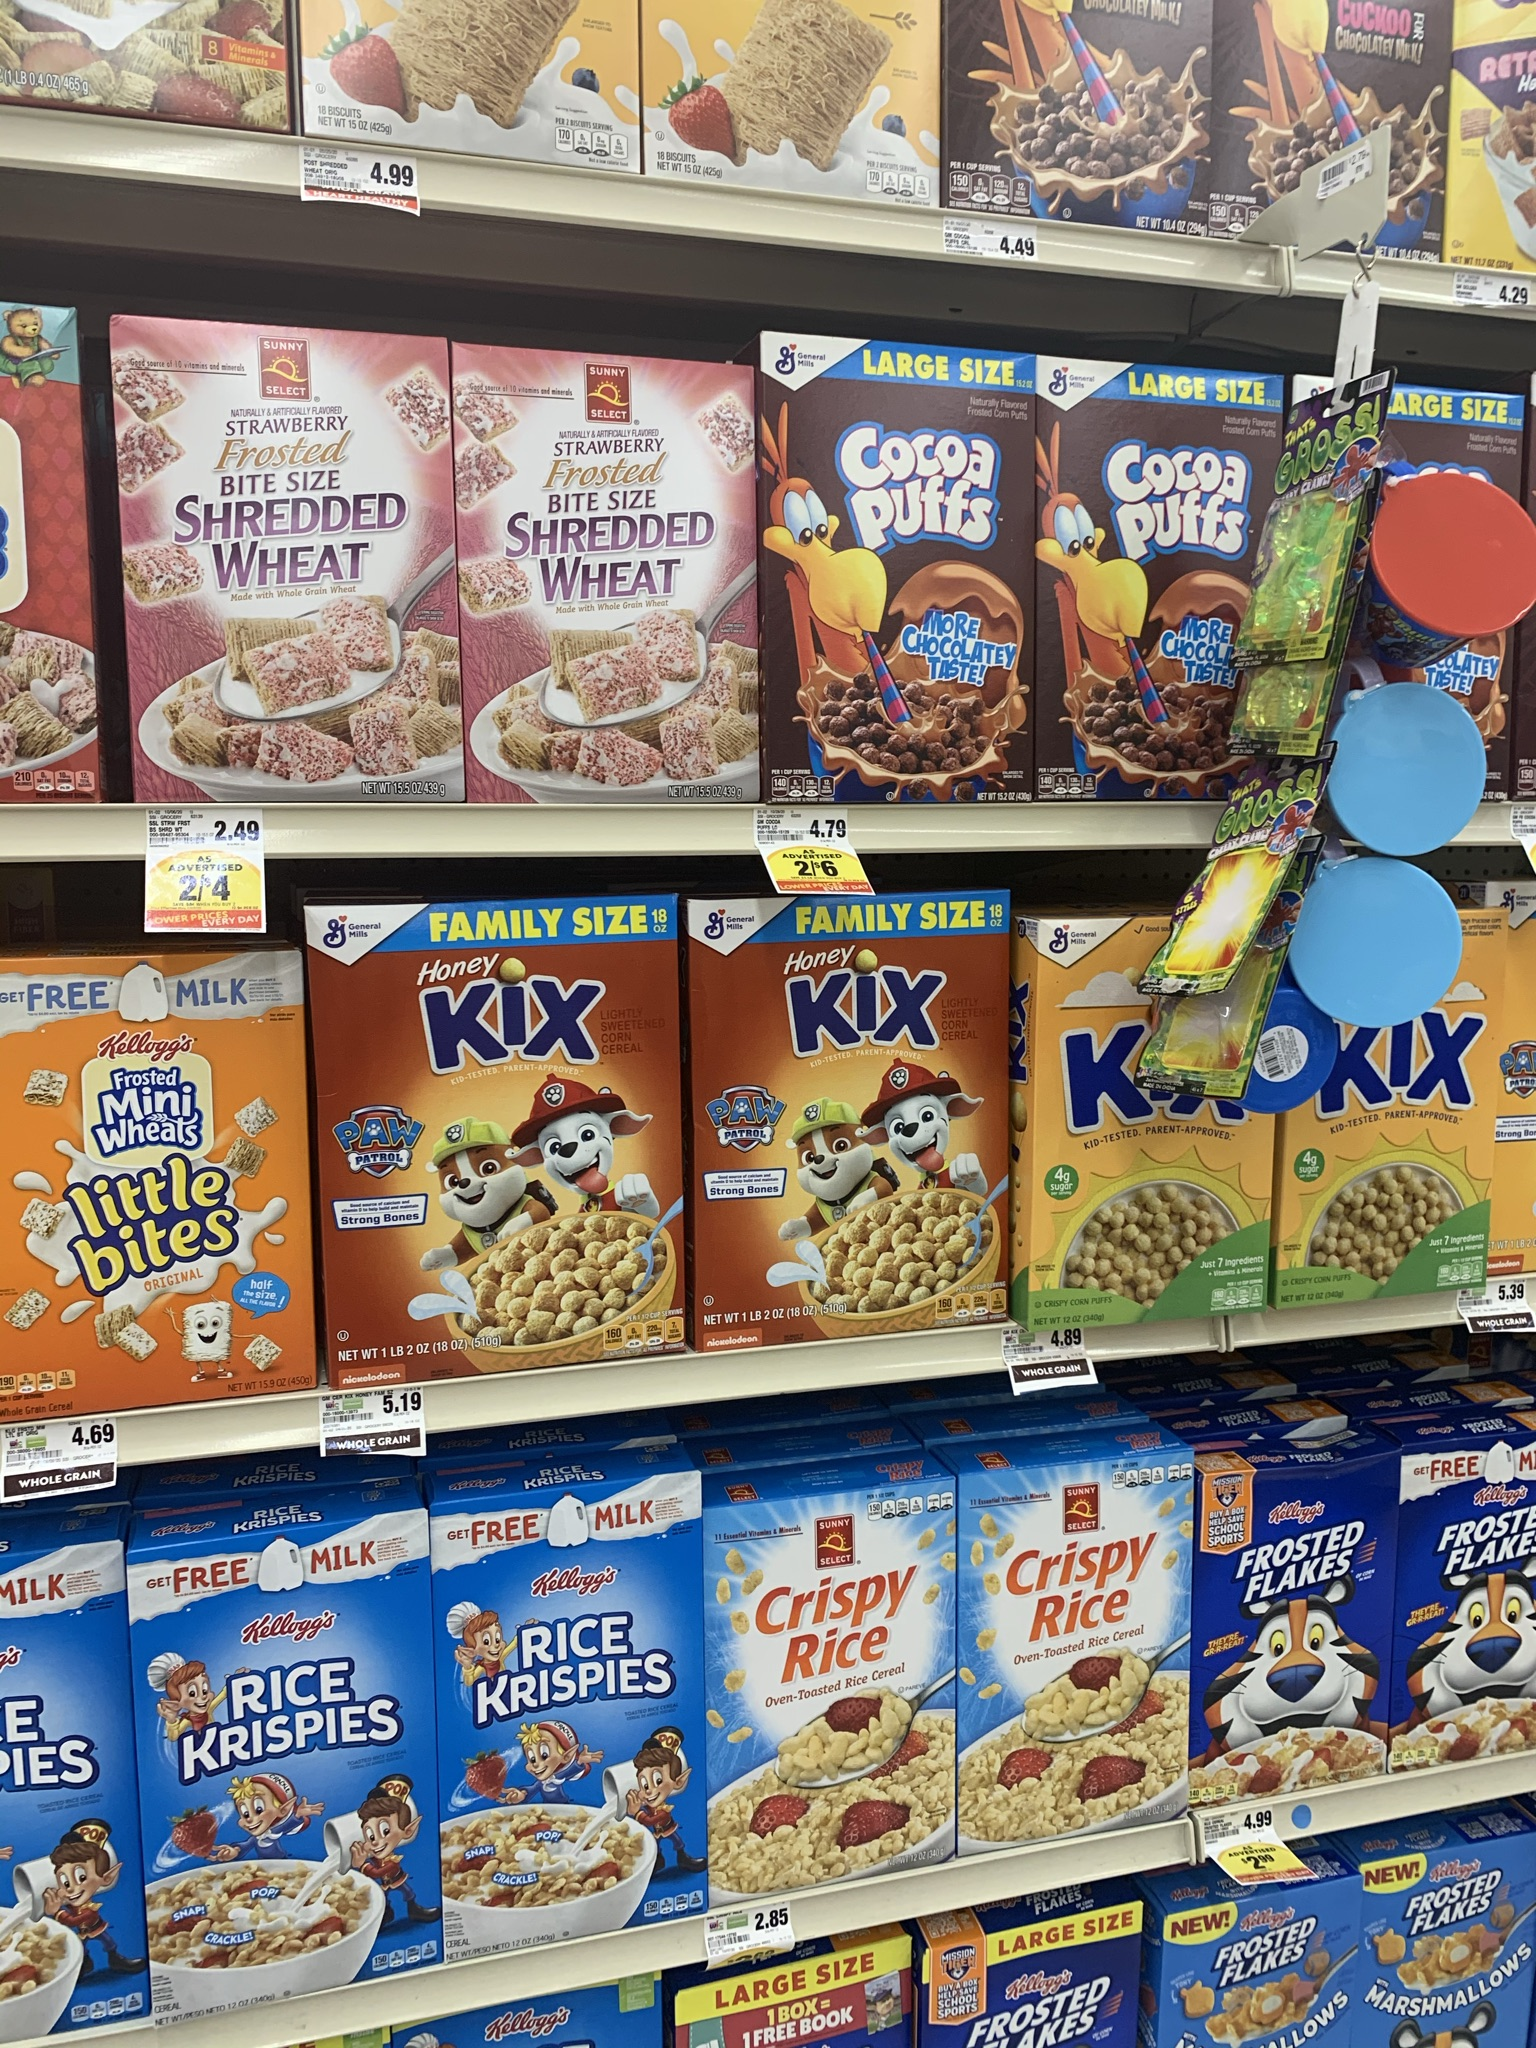box: (323, 921, 678, 1353), (140, 348, 452, 789), (2, 971, 303, 1405), (765, 343, 1029, 798), (703, 927, 1002, 1327), (473, 381, 757, 798), (148, 1555, 428, 1971), (449, 1527, 689, 1916), (1029, 364, 1220, 792), (724, 1522, 928, 1871), (987, 1488, 1179, 1817), (1212, 1474, 1388, 1772), (1412, 1466, 1536, 1750)
